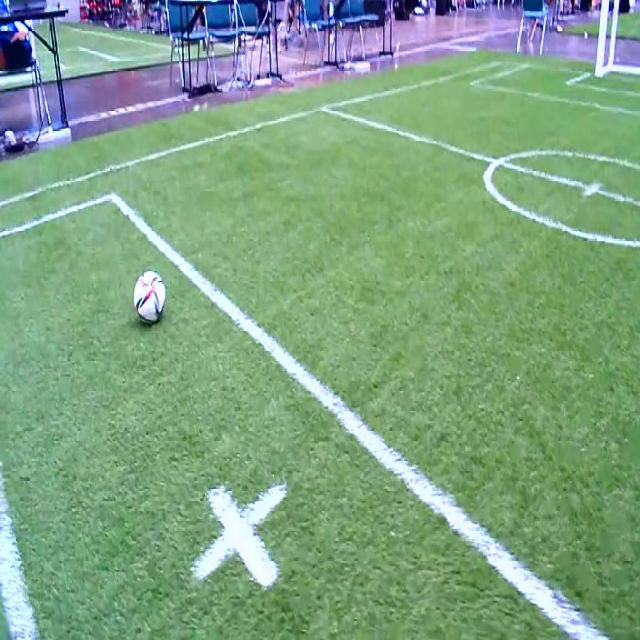ball: (133, 270, 166, 324)
